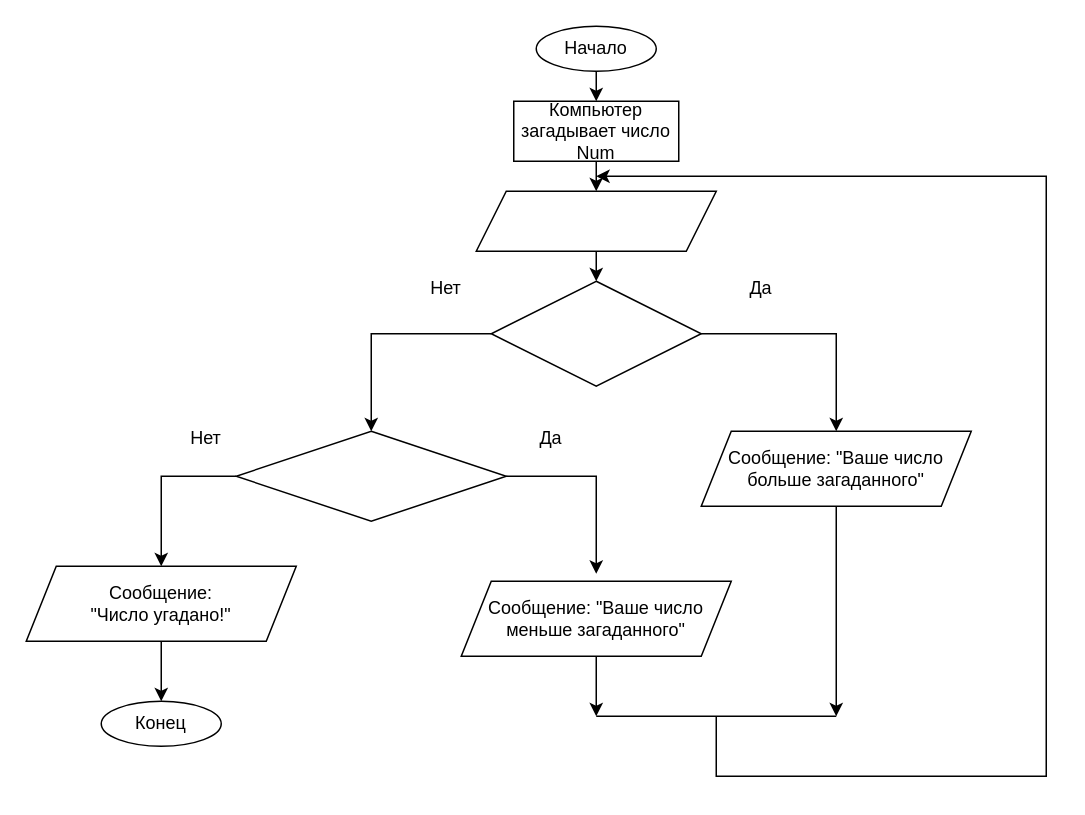
This 1085x815 diagram has some shape labels left out. Here are the shapes that lost their labels. From the top down, the centre of each, then its label:
At (x=595, y=220): "Пользователь задает число Chek".
At (x=595, y=333): "Chek > Num?".
At (x=370, y=475): "Chek < Num?".
